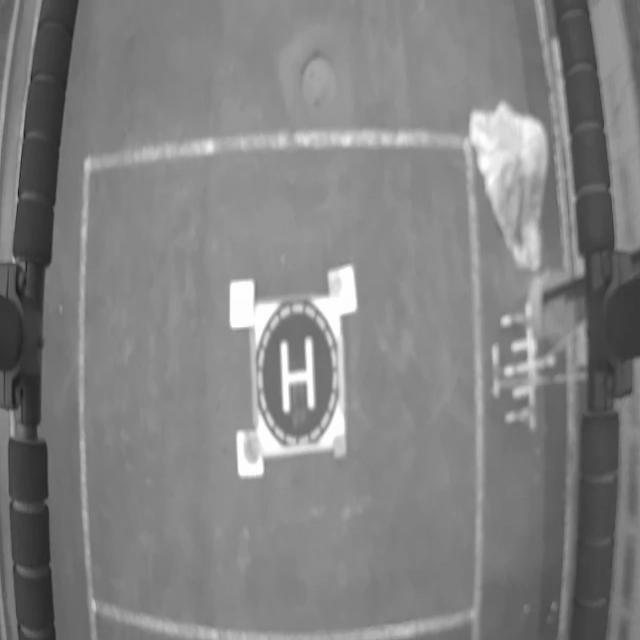Helipad: (280, 340, 316, 412)
